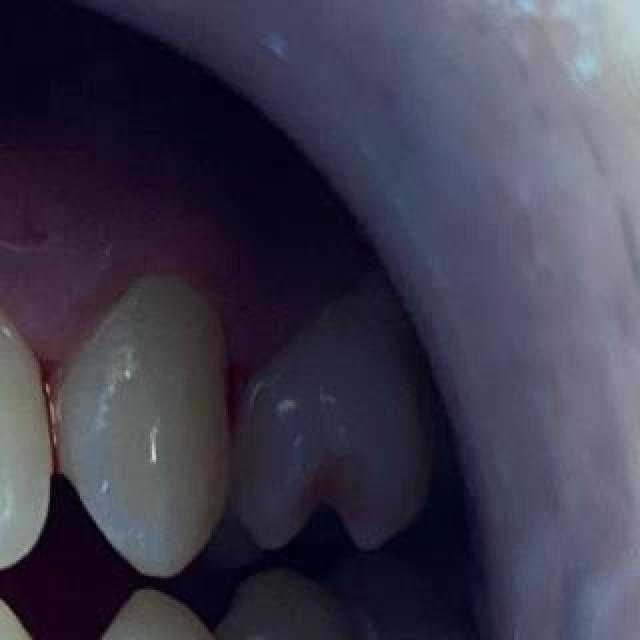maligned: (223, 290, 457, 576)
